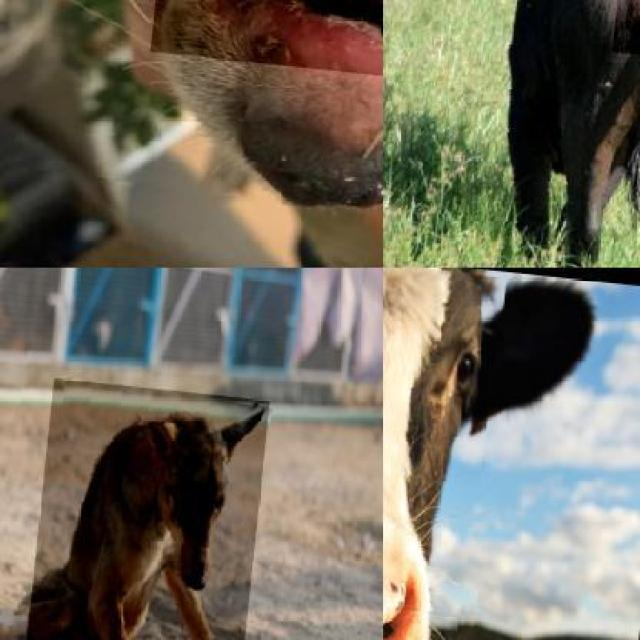buffalo: (383, 0, 640, 268)
cow: (383, 267, 500, 640)
dog: (0, 0, 383, 238), (18, 377, 270, 640)
injured: (149, 0, 383, 86), (0, 584, 101, 640)
